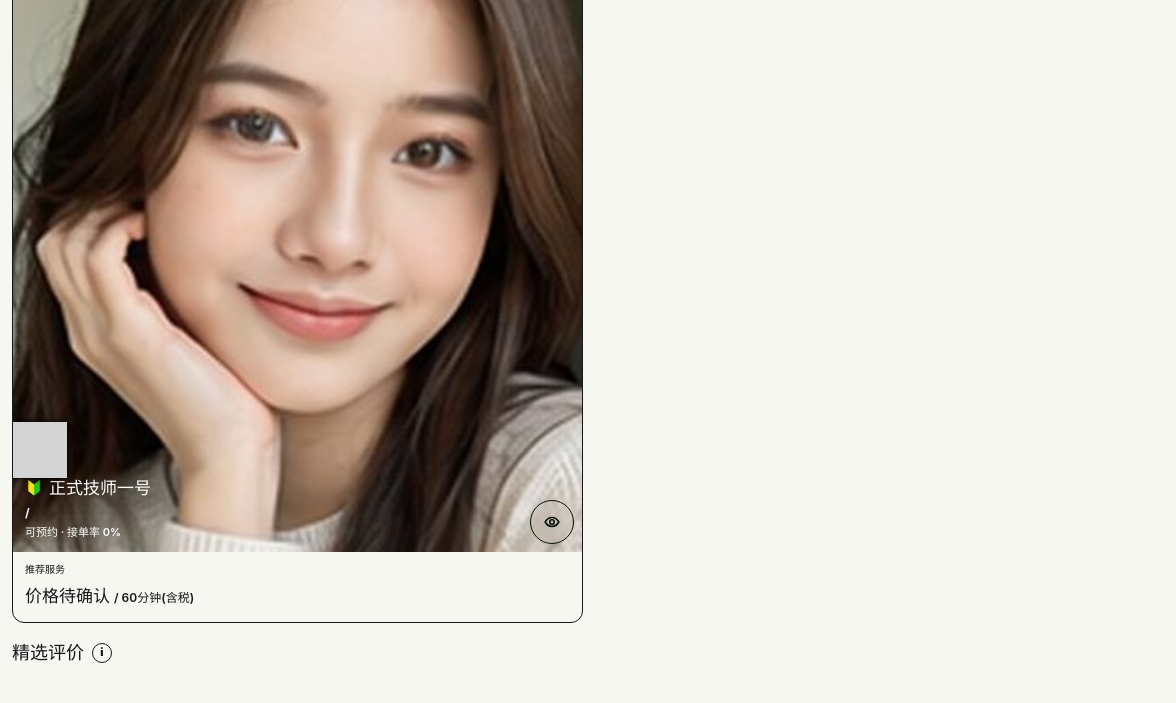
Test: keeps the server-confirmed technician visibility when the merchant update fails
The image size is (1176, 703).
(page scrolled)
Click the button named "隐藏技师" at (552, 522), box [530, 500, 574, 544]
(page scrolled)
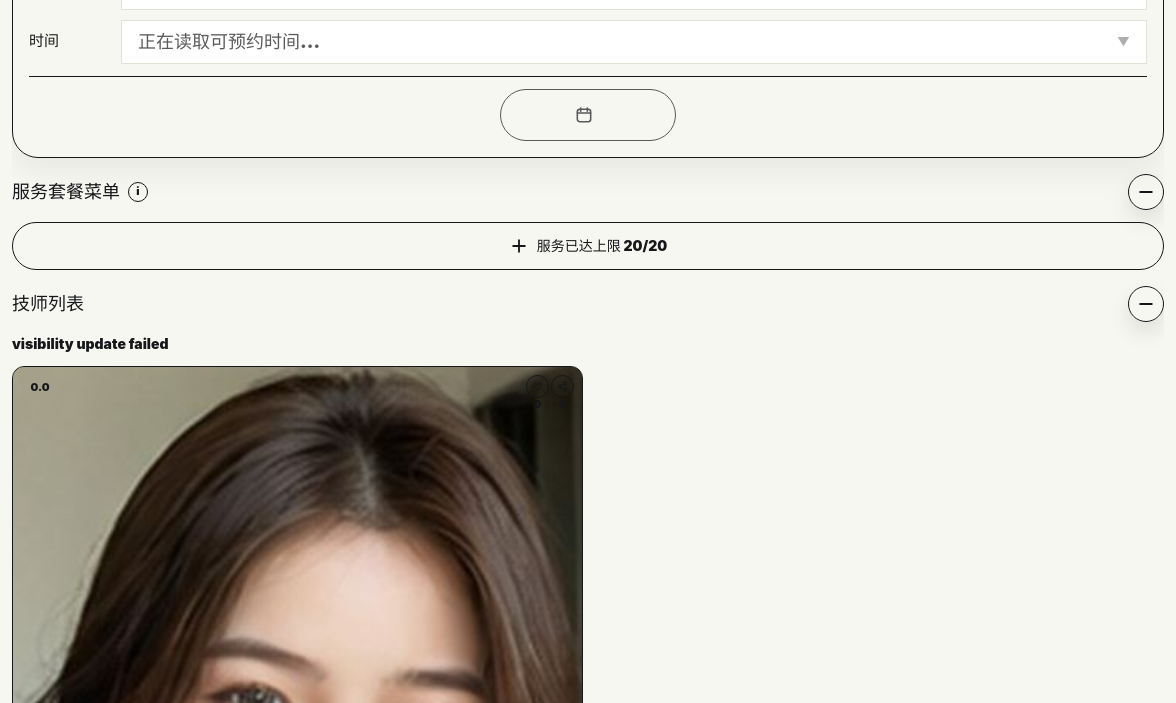
Expected: the message "visibility update failed" is shown, [12, 334, 168, 352]
